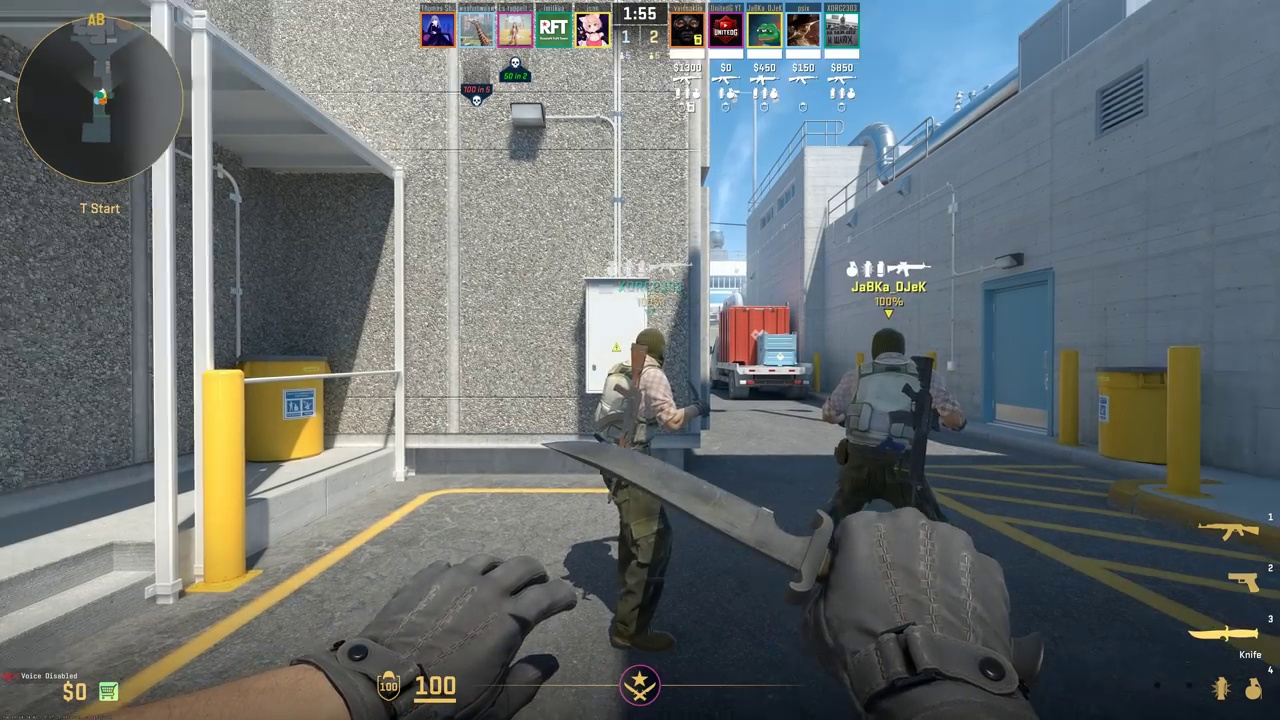Terrorist: (593, 323, 689, 645), (832, 330, 945, 515)
